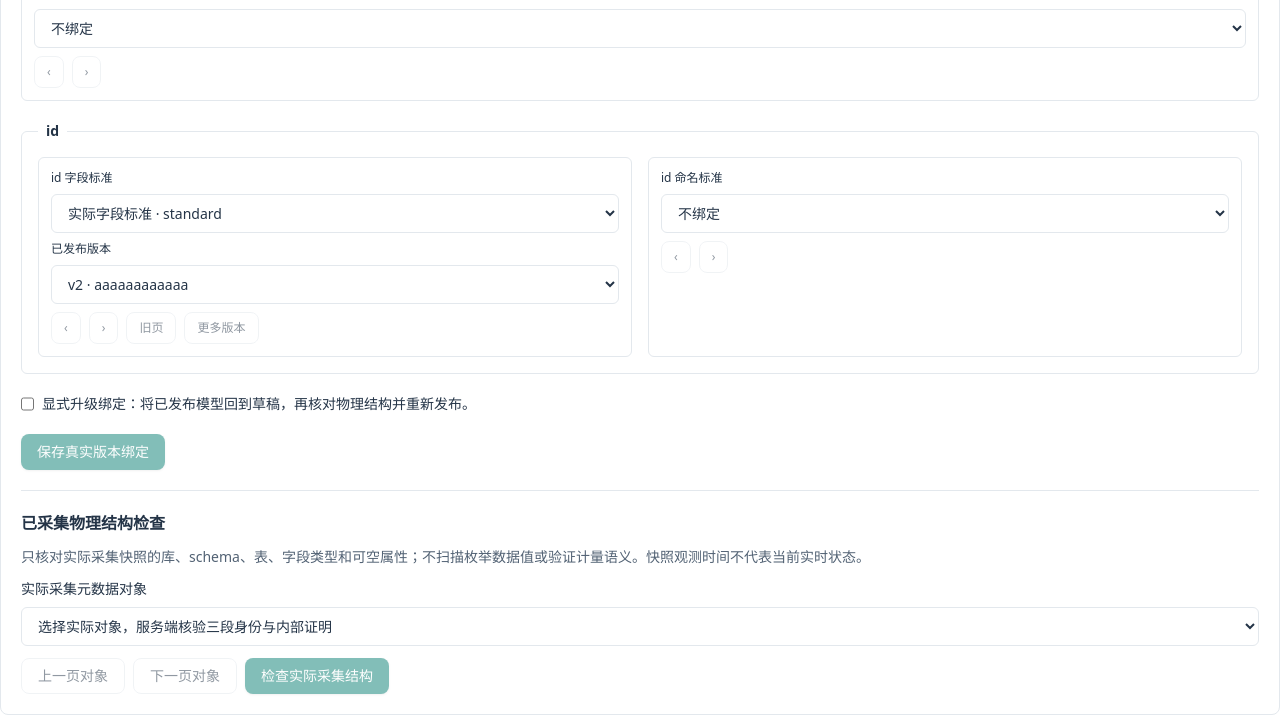
Test case: Pinned model standards and actual collected structure › hides a previous inspection immediately after permission scope revocation
(page scrolled)
Select "真实采集表 · v3" in the dropdown labelled "实际采集元数据对象": x=640, y=626 [21,607,1259,646]
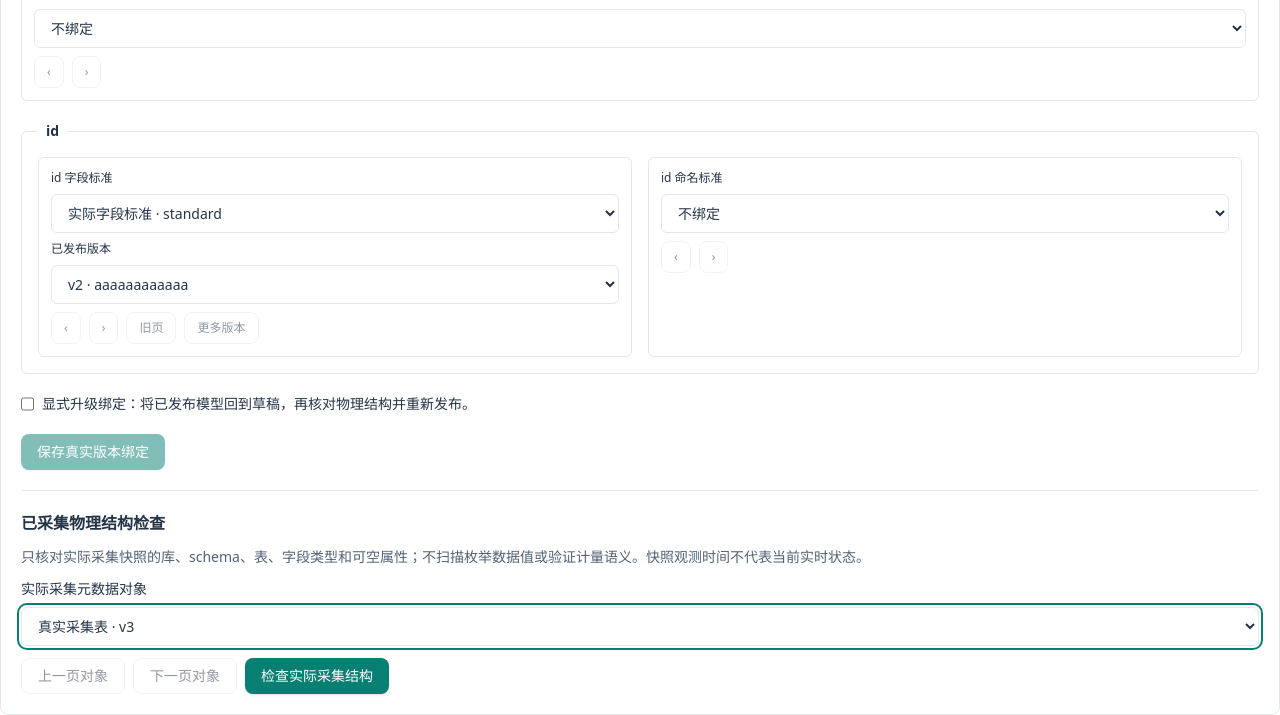
Click the button "检查实际采集结构": x=317, y=676 [245,658,389,694]
(page scrolled)
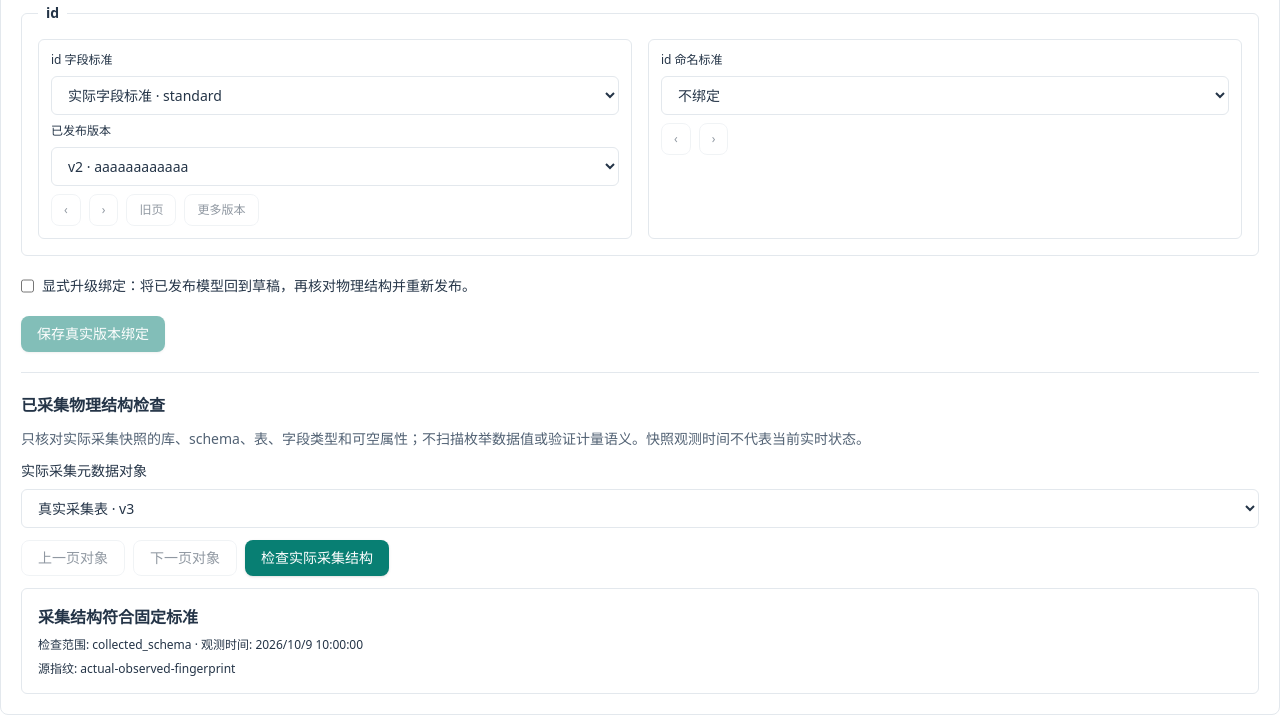
Expected: the text "采集结构符合固定标准" is shown, [38,606,198,628]
